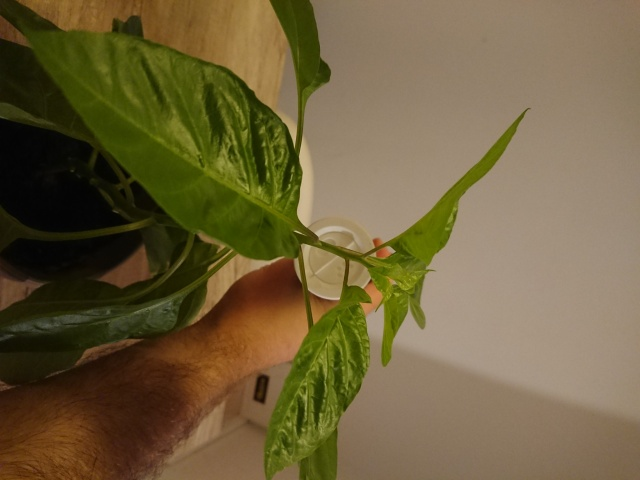Solana Pag Fine Sea Salt 250g: (290, 215, 379, 303)
